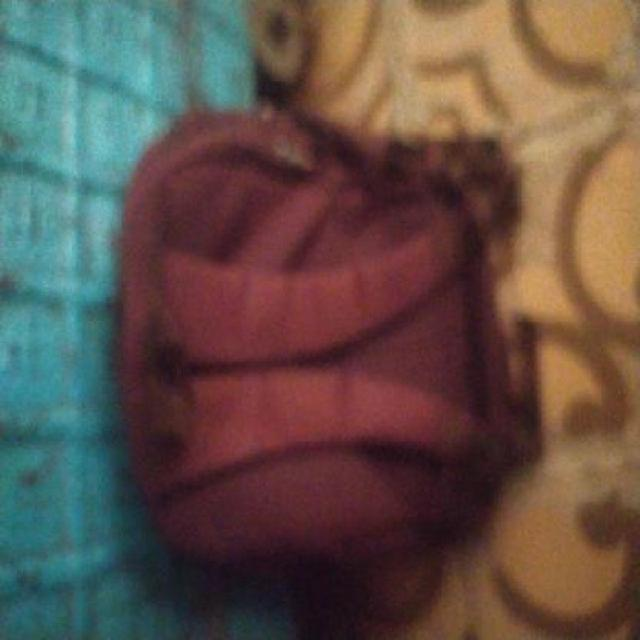backpack: (109, 97, 548, 640)
